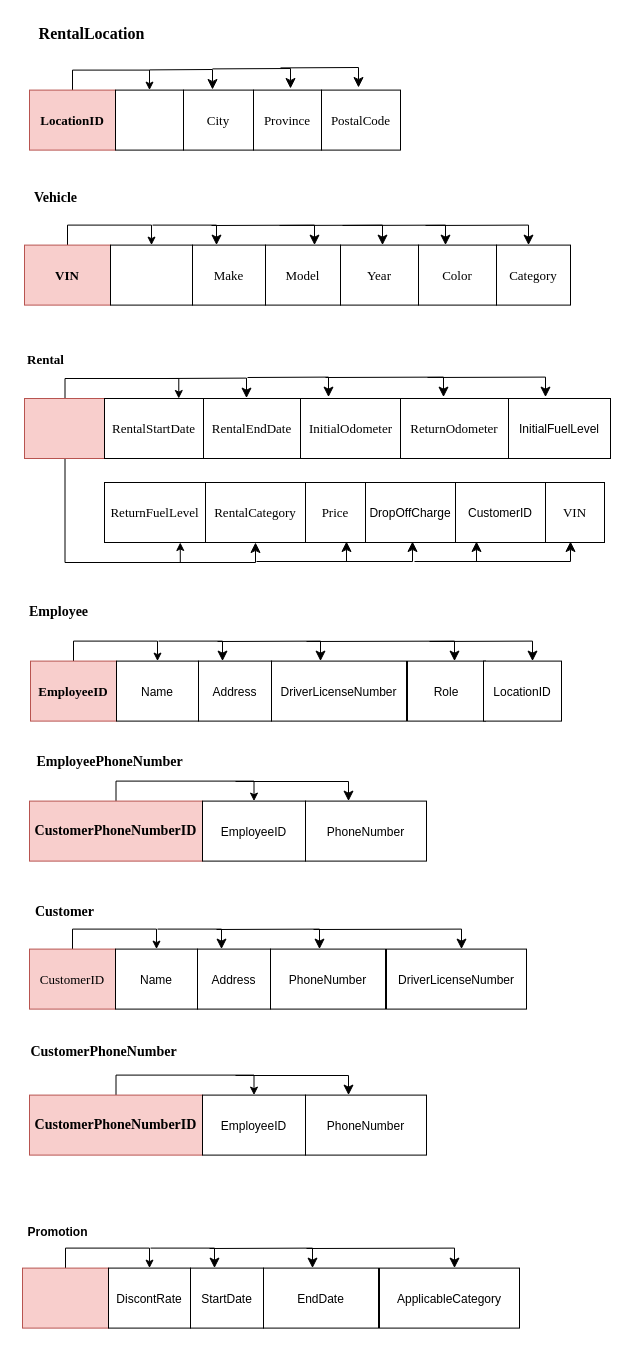
This 628x1346 diagram has some shape labels left out. The centre of each missing label's shape, as x and y in pixels:
"LicensePlate" goes at [151,274].
"PromotionID" goes at [65,1297].
"RentalID" goes at [65,428].
"Street" goes at [149,119].
